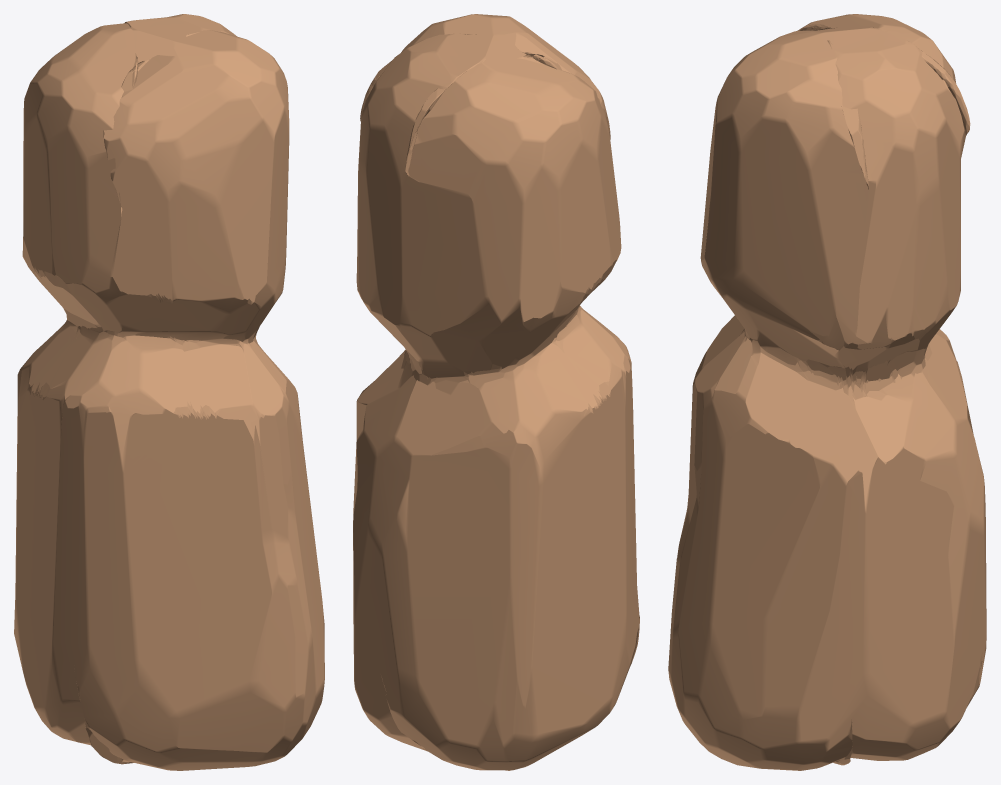
3 renders of one model, left to right at view 1: azimuth 30°, elevation 25°; view 2: azimuth 150°, elevation 25°; view 3: azimuth 270°, elevation 25°, orthographic. The views are drawn at different scales.
Parts seen in each view (by area): view 1: Mesh_18_LOD0; view 2: Mesh_18_LOD0; view 3: Mesh_18_LOD0.
Boxes of the visible parts, <box> form: Mesh_18_LOD0: <box>14,14,324,770</box>; Mesh_18_LOD0: <box>353,14,639,770</box>; Mesh_18_LOD0: <box>668,14,986,770</box>.
Size of what is drawn, in the model's own units: 386 by 1049 by 421.
